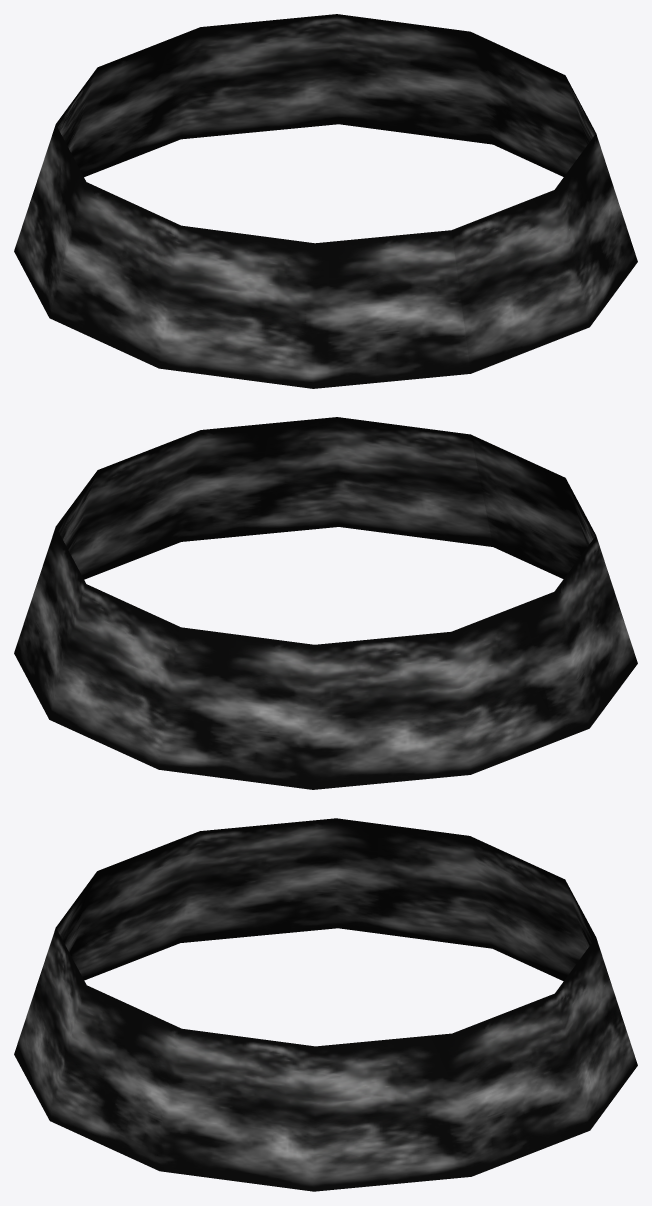
3 views of the same model, one above another, from view 1: azimuth 30°, elevation 25°; view 2: azimuth 150°, elevation 25°; view 3: azimuth 270°, elevation 25° (orthographic).
Parts seen in each view (by area): view 1: wu01; view 2: wu01; view 3: wu01.
Part boxes in pixels (x1,y1,x2,y2): wu01: [14, 14, 637, 388]; wu01: [14, 417, 637, 789]; wu01: [14, 818, 637, 1191].
Bounding box in the file's own units: 4483 × 1013 × 4488.
